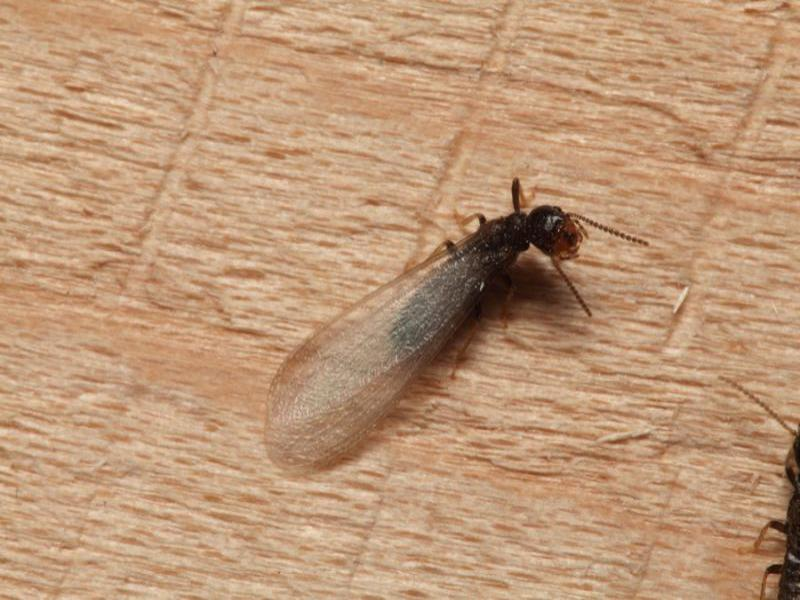Thrips: (242, 166, 624, 482)
